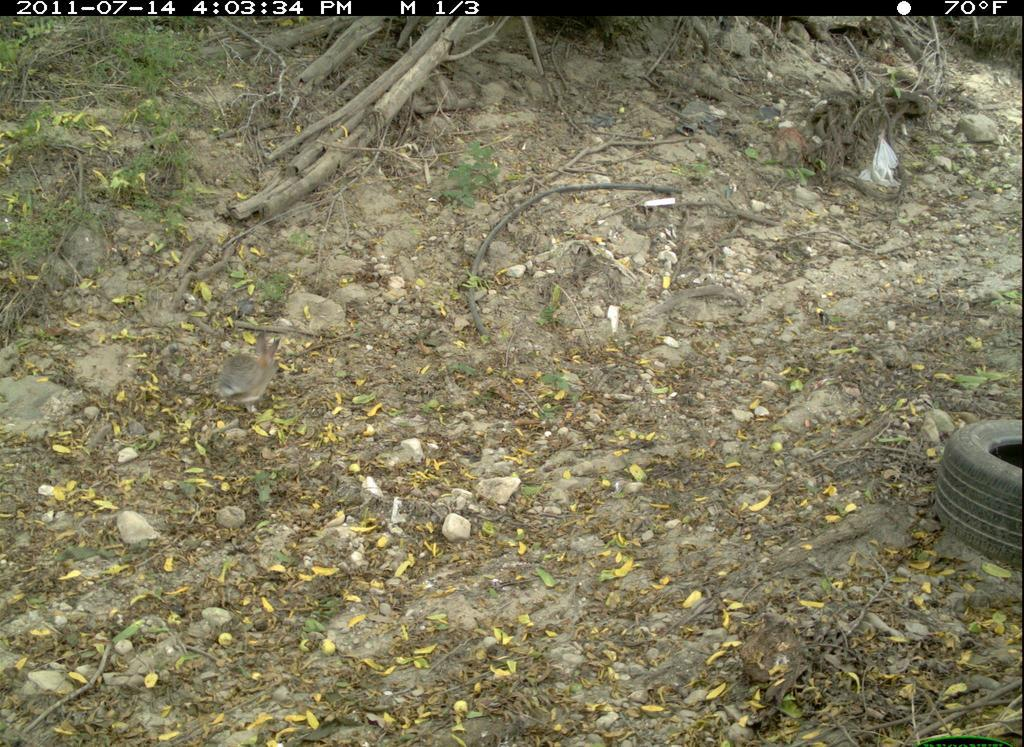rabbit: (201, 309, 303, 434)
